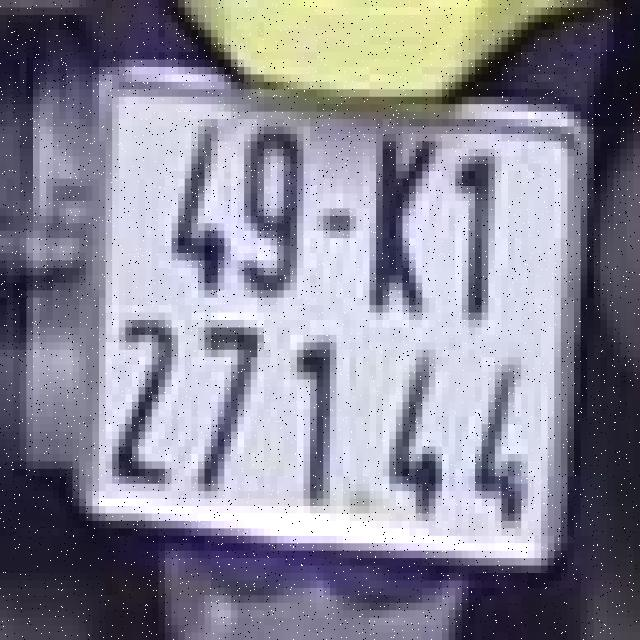1: (294, 312, 359, 514), (449, 134, 508, 327)
2: (99, 302, 185, 488)
4: (472, 335, 544, 551), (379, 342, 452, 528), (168, 108, 234, 309)
7: (191, 305, 264, 499)
9: (238, 104, 324, 313)
K: (350, 115, 436, 324)
